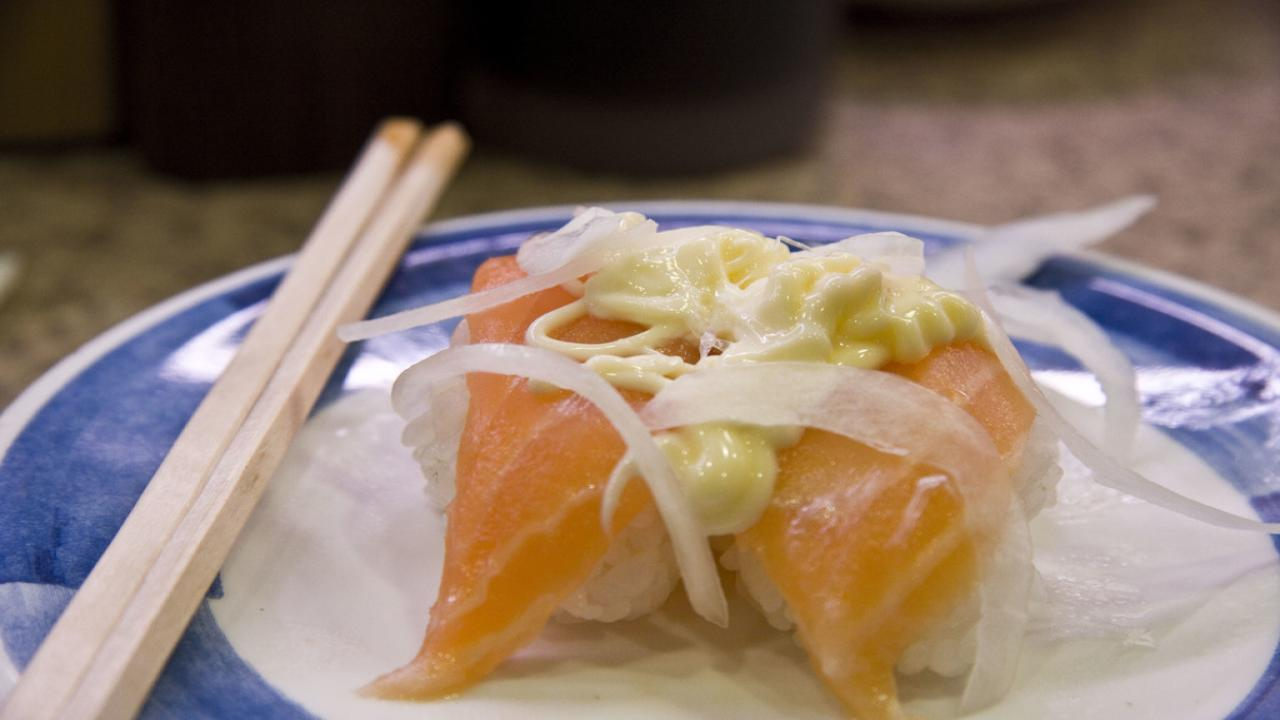chopstick: (0, 120, 468, 720)
